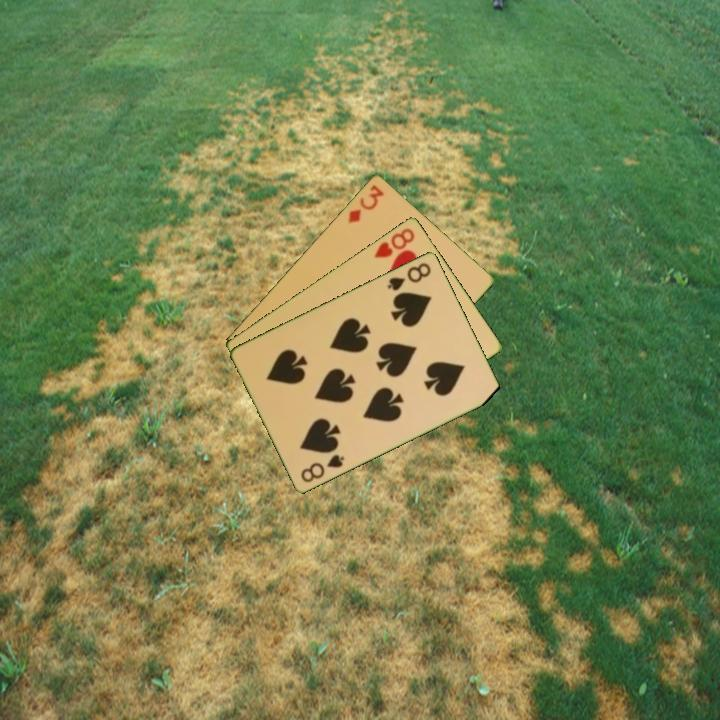3d: (344, 181, 387, 226)
8h: (371, 224, 418, 261)
8s: (297, 450, 348, 485), (384, 259, 434, 293)
